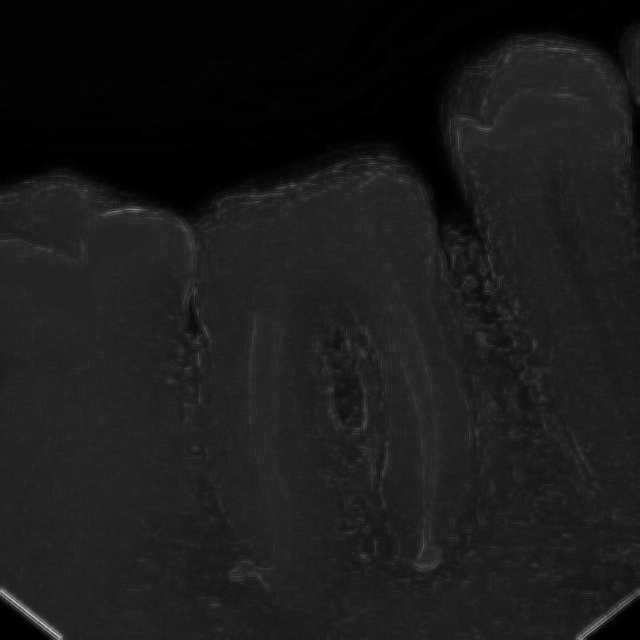Class 0- No endodontic treatment: (137, 156, 528, 624)
